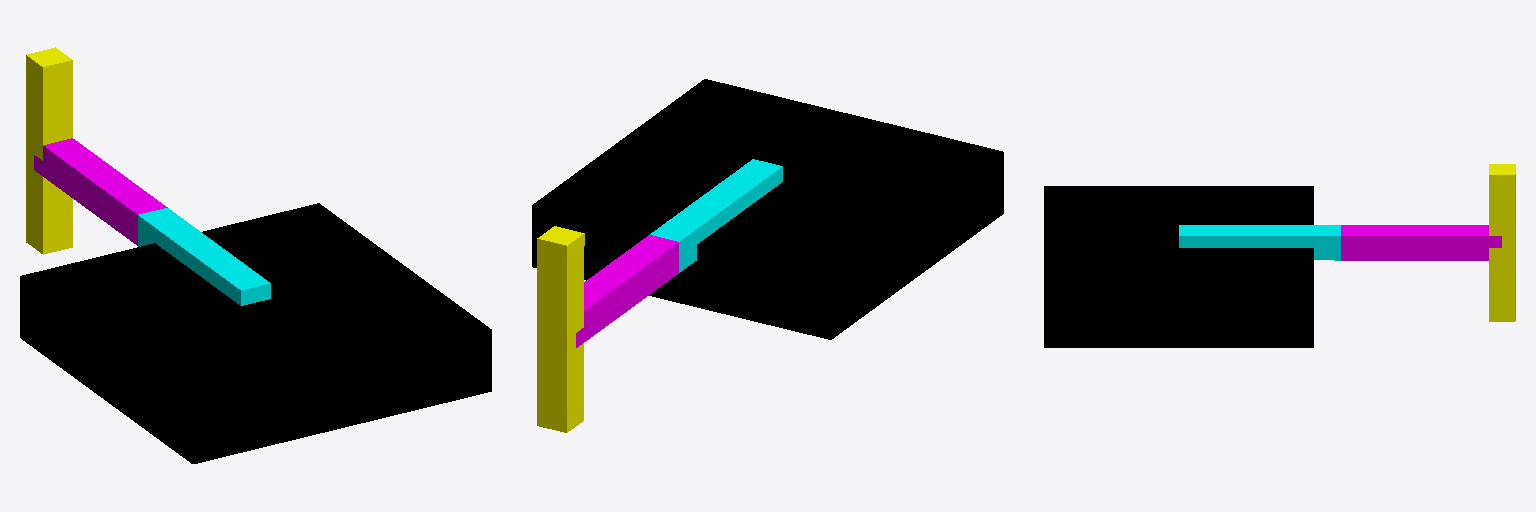
robot.urdf — robot:
<robot name="robot">
  <!--Descripción de los eslabones-->
  <link name="base_link">
    <visual>
      <geometry>
        <box size="0.5 0.5 0.1"/>
      </geometry>
      <origin xyz="0 0 -0.05"/>
      <material name="black">
        <color rgba="0 0 0 0.5"/>
      </material>
    </visual>
  </link>

  <link name="shoulder_link">
    <visual>
      <geometry>
        <box size="0.3 0.05 0.05"/>
      </geometry>
      <origin xyz="0.15 0 0"/>
      <material name="cyan">
        <color rgba="0 1 1 1"/>
      </material>
    </visual>
  </link>
  <link name="arm_link">
    <visual>
      <geometry>
        <box size="0.3 0.05 0.05"/>
      </geometry>
      <origin xyz="0.15 0 0"/>
      <material name="magenta">
        <color rgba="1 0 1 1"/>
      </material>
    </visual>
  </link>
  <link name="forearm_link">
    <visual>
      <geometry>
        <box size="0.05 0.05 0.3"/>
      </geometry>
      <origin xyz="0 0 0"/>
      <material name="yellow">
        <color rgba="1 1 0 1"/>
      </material>
    </visual>
  </link>

  <!--Descripción de las juntas-->
  <joint name="shoulder_joint" type="revolute"> <!--tipo de junta: revolute, prismatic, fixed-->
    <parent link="base_link"/>
    <child link="shoulder_link"/>
    <axis xyz="0 0 1"/>
    <limit lower="-3.14" upper ="3.14"/>
    <origin rpy="1.57 0 1.57"/> <!--roll, pitch, yaw-->
  </joint>
  <joint name="arm_joint" type="revolute"> <!--tipo de junta: revolute, prismatic, fixed-->
    <parent link="shoulder_link"/>
    <child link="arm_link"/>
    <axis xyz="0 0 1"/>
    <limit lower="-3.14" upper ="3.14"/>
    <origin xyz="0.3 0 0"/>
  </joint>
  <joint name="forearm_joint" type="prismatic"> <!--tipo de junta: revolute, prismatic, fixed-->
    <parent link="arm_link"/>
    <child link="forearm_link"/>
    <axis xyz="0 0 1"/>
    <limit lower="-0.15" upper ="0.15"/>
    <origin xyz="0.3 0 0" rpy="1.57 0 0"/>
  </joint>
</robot>

--- What the picture shows (computed from the rendered views, not written in the file) ---
Views: 3 orthographic renders of the robot side by side, from view 1: azimuth 30°, elevation 25°; view 2: azimuth 150°, elevation 25°; view 3: azimuth 270°, elevation 25°.
Model robot with 4 links and 3 joints (2 revolute, 1 prismatic), rooted at base_link, posed every joint at zero.
Links seen in each view (by area): view 1: base_link, forearm_link, arm_link, shoulder_link; view 2: base_link, forearm_link, arm_link, shoulder_link; view 3: base_link, arm_link, forearm_link, shoulder_link.
Link boxes in pixels (x1=…): base_link: x1=20, y1=203, x2=491, y2=463; forearm_link: x1=26, y1=47, x2=72, y2=254; arm_link: x1=34, y1=138, x2=167, y2=245; shoulder_link: x1=138, y1=208, x2=270, y2=305; base_link: x1=532, y1=79, x2=1003, y2=339; forearm_link: x1=537, y1=226, x2=584, y2=432; arm_link: x1=576, y1=235, x2=678, y2=347; shoulder_link: x1=650, y1=159, x2=782, y2=272; base_link: x1=1044, y1=186, x2=1313, y2=347; arm_link: x1=1341, y1=225, x2=1501, y2=260; forearm_link: x1=1489, y1=164, x2=1515, y2=321; shoulder_link: x1=1179, y1=225, x2=1340, y2=260.
Bounding box of the posed robot: 0.5 × 0.875 × 0.3001 m (x, y, z).
Geometry: primitives only (box / cylinder / sphere), no mesh files.
